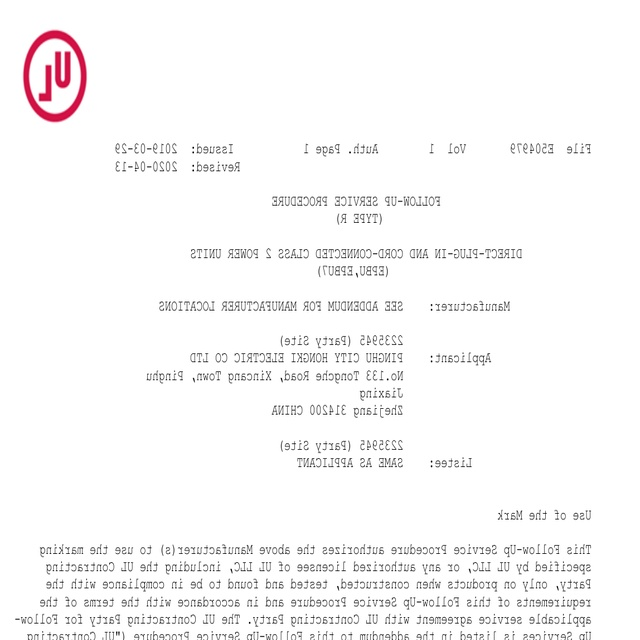ul: (22, 29, 90, 122)
